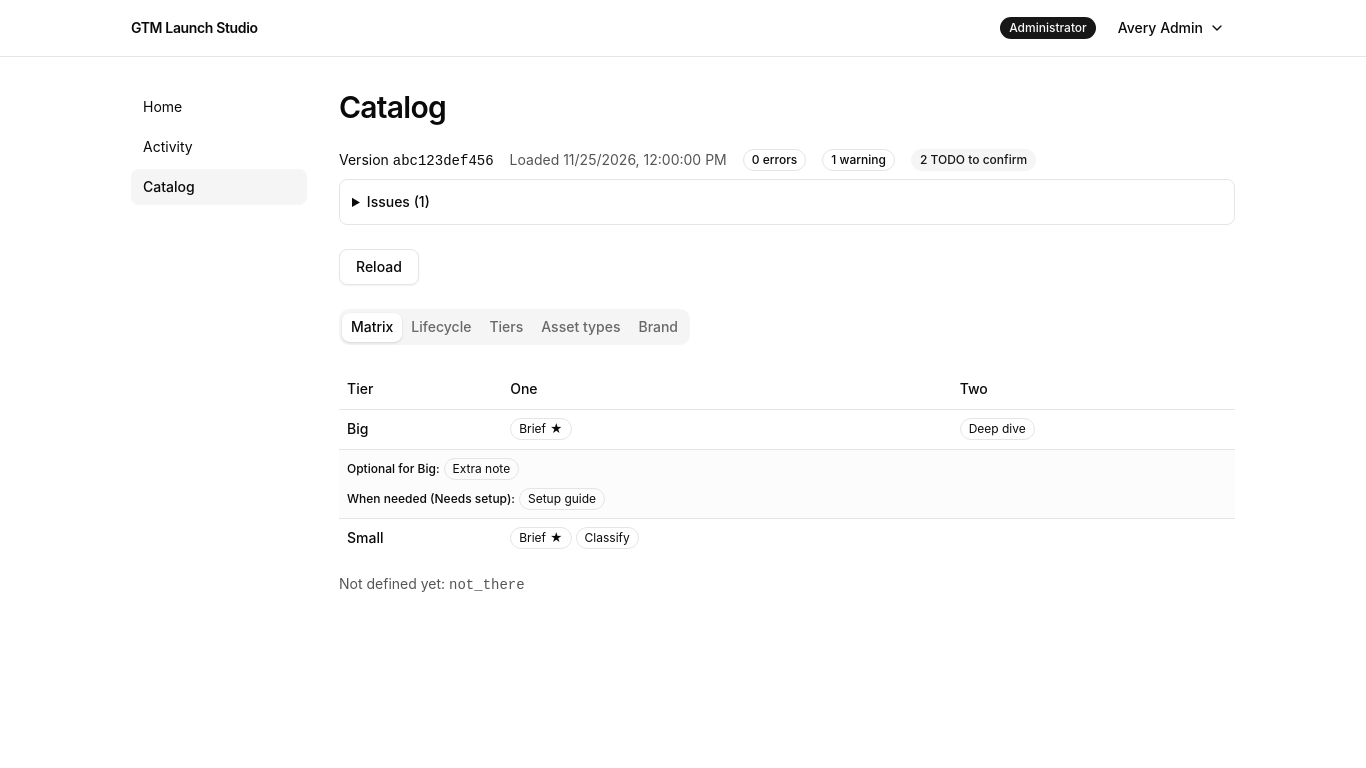
Test: CatalogPage › Reload › lists every issue on a 409 and says the old catalog stays
This screenshot has width=1366, height=768.
Expected: the heading "Catalog" is shown, [339, 89, 446, 125]
Step 1. Click the button "Reload" → (379, 267), box [339, 249, 419, 285]
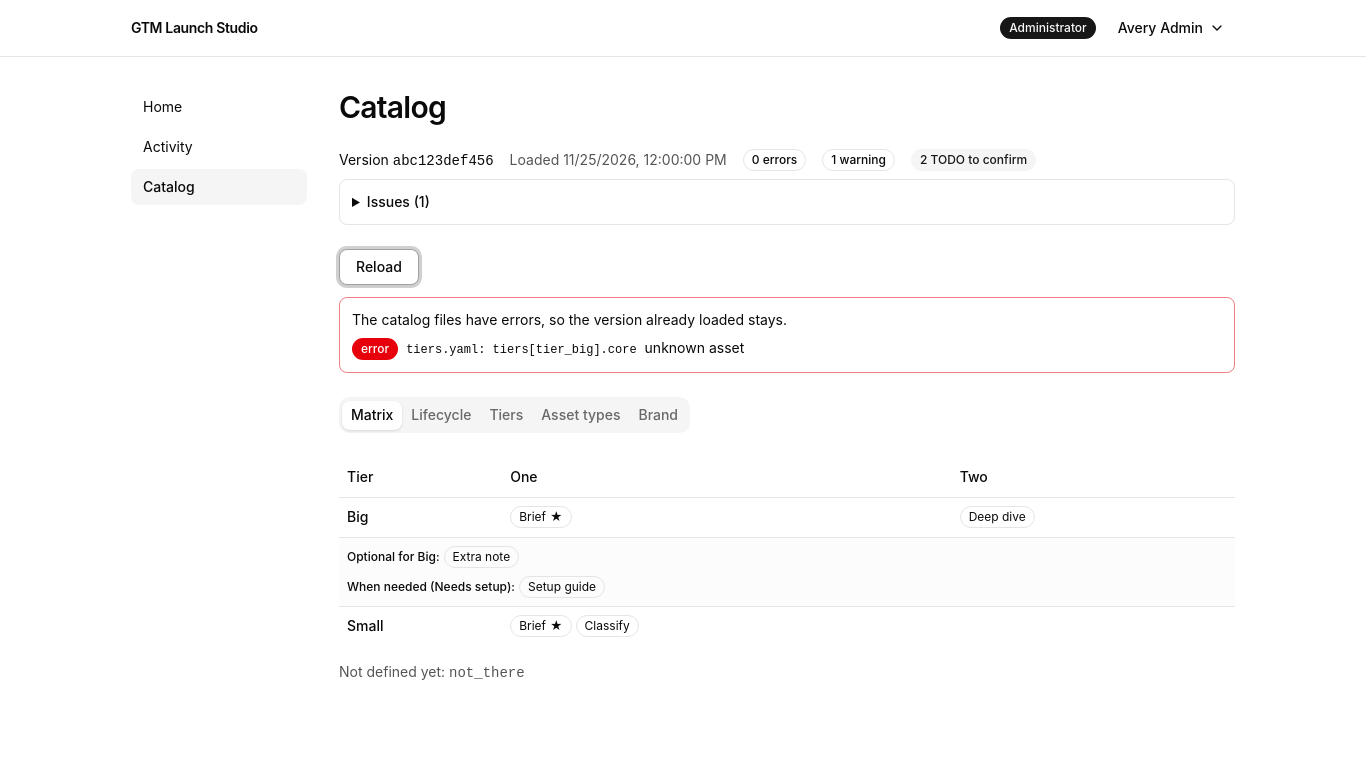
Expected: the message shows "version already loaded stays", [352, 311, 787, 328]
Expected: the message shows "unknown asset", [645, 339, 744, 356]
Expected: the text "tiers.yaml: tiers[tier_big].core" is shown, [406, 342, 637, 358]
